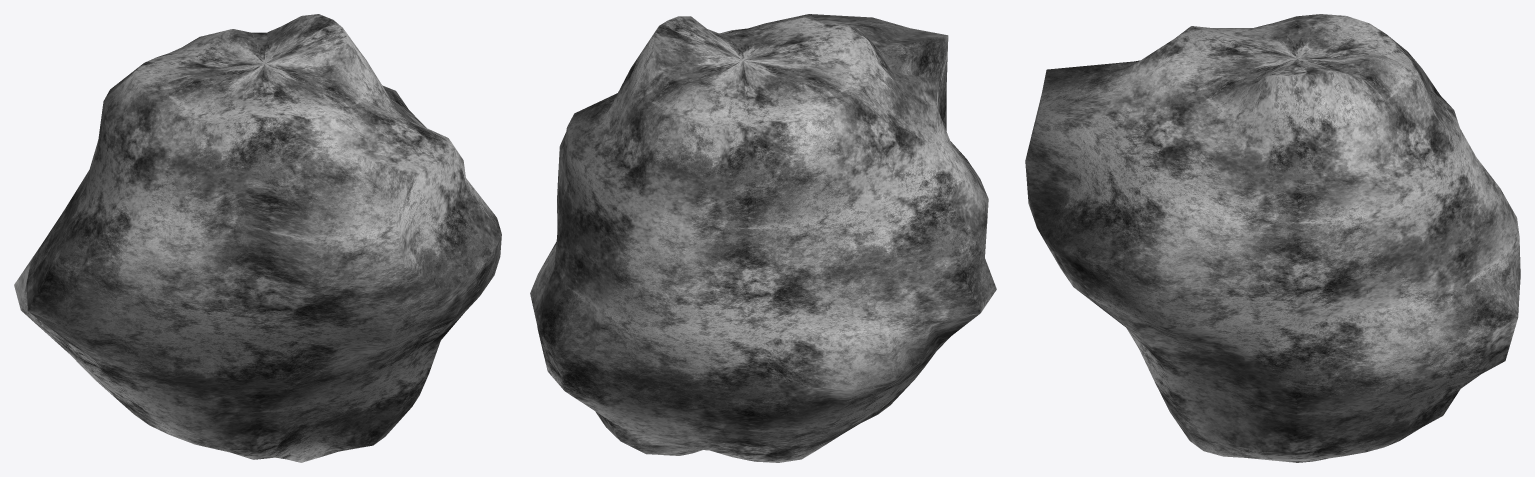
File: Meteoroid01b.fbx
3 views of the same model, side by side, from view 1: azimuth 30°, elevation 25°; view 2: azimuth 150°, elevation 25°; view 3: azimuth 270°, elevation 25° (orthographic).
Visible parts, largest first — view 1: Meteoroid01b; view 2: Meteoroid01b; view 3: Meteoroid01b.
Boxes of the visible parts, left/top/right/bottom form: Meteoroid01b: left=14, top=14, right=501, bottom=462; Meteoroid01b: left=530, top=14, right=996, bottom=462; Meteoroid01b: left=1025, top=14, right=1520, bottom=462.
Bounding box in the file's own units: 319 × 291 × 333.
